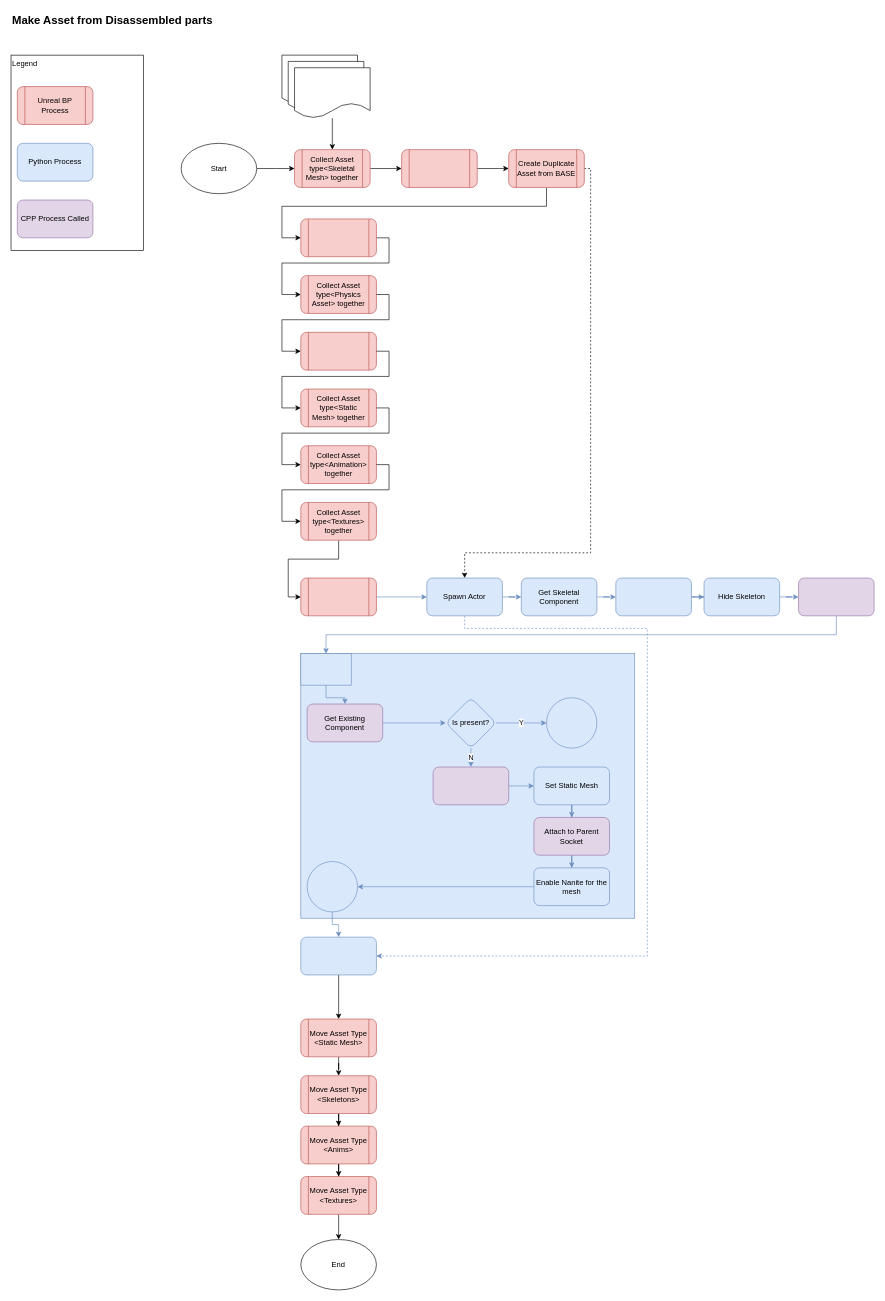
This 885x1301 diagram has some shape labels left out. The shapes that lost their labels are listed below. From the top down, each one's centre as x and y in pixels, then its label:
the point at 332,92: Selected Assets
the point at 439,168: Get Asset Name from First Skeletal Mesh
the point at 338,237: Collect Asset type<Skeleton> together
the point at 338,351: Collect Asset type<Material> together
the point at 338,596: Exec Python Script
the point at 653,596: Set Skeletal Mesh
the point at 836,596: Apply Changes
the point at 325,669: For Each Static Mesh
the point at 571,722: Skip
the point at 470,785: Add Component to Actor
the point at 332,886: End Loop
the point at 338,955: Destroy Actor
